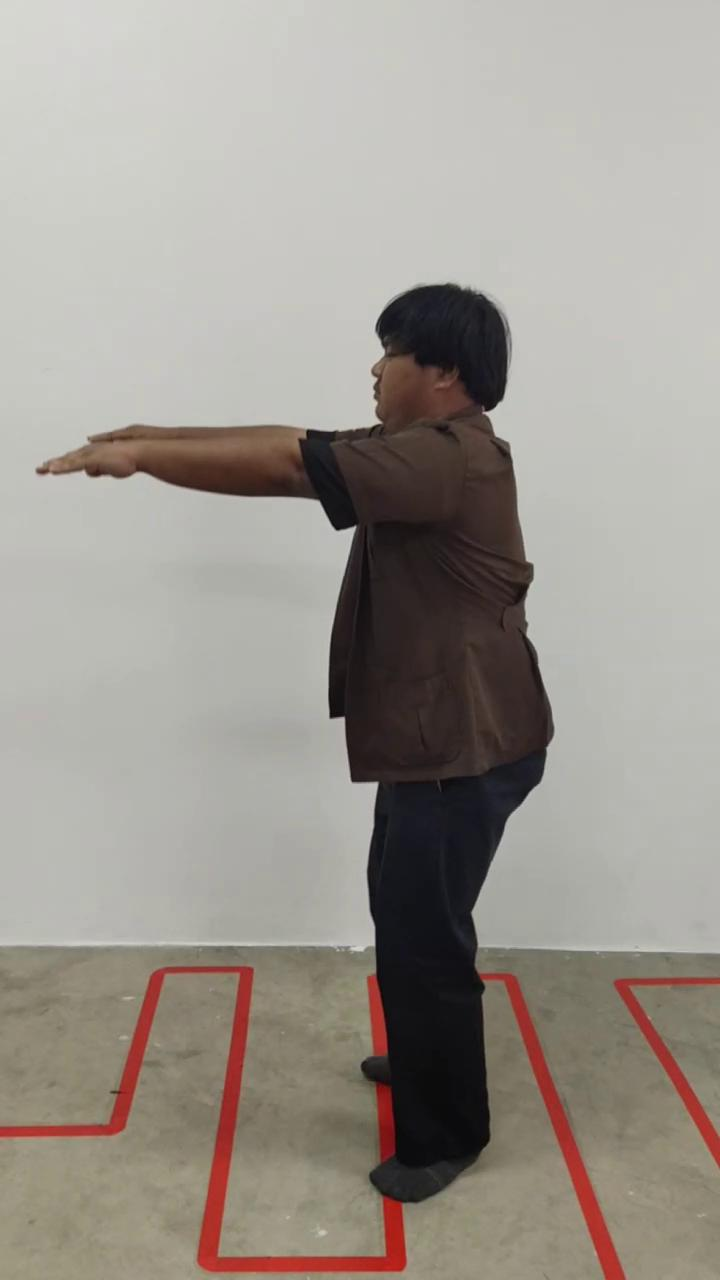squat up: (43, 283, 554, 1206)
